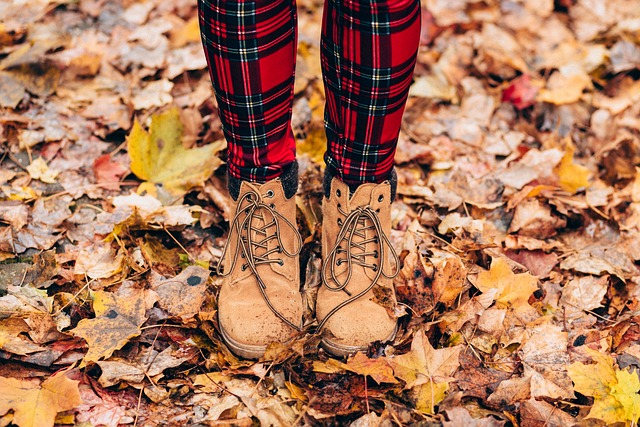Footwear: (202, 170, 399, 357)
